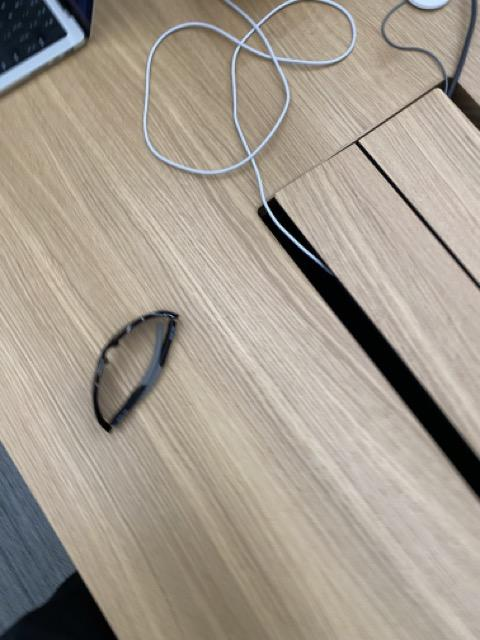Sunglasses: (90, 308, 182, 434)
